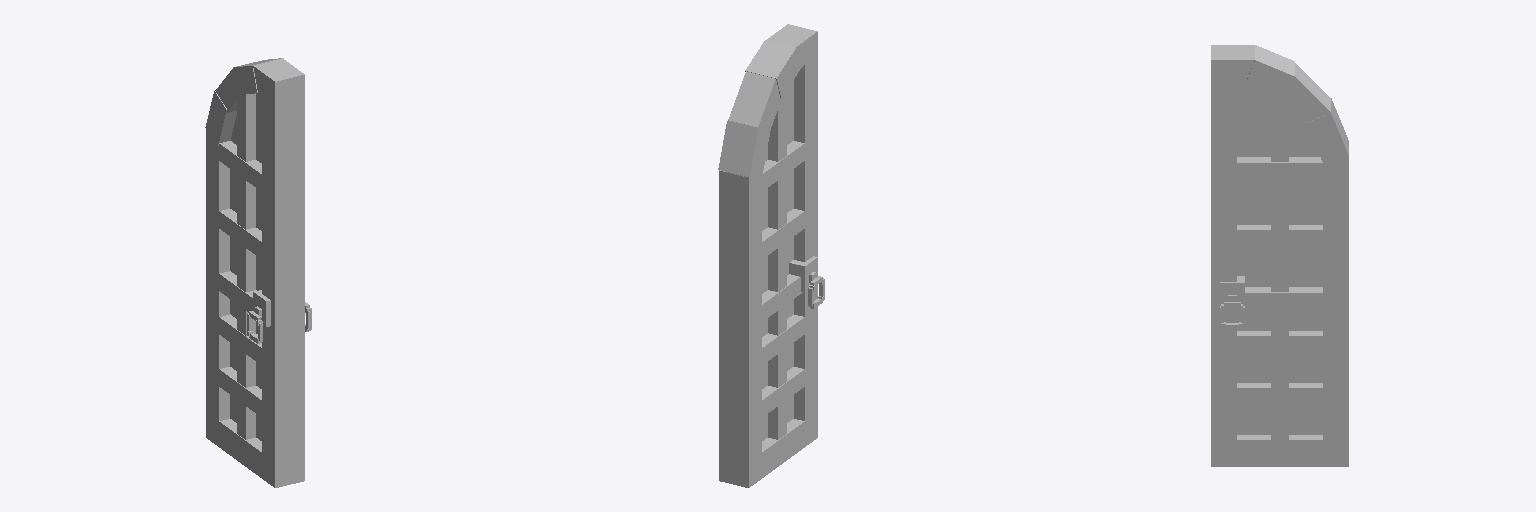
Rendered from large_gate.obj.
The picture shows the model from 3 angles: view 1: azimuth 30°, elevation 25°; view 2: azimuth 150°, elevation 25°; view 3: azimuth 270°, elevation 25°; orthographic projection.
Visible parts, largest first — view 1: Cube.001; view 2: Cube.001; view 3: Cube.001.
Boxes of the visible parts, x1=… form: Cube.001: x1=205, y1=58, x2=311, y2=487; Cube.001: x1=718, y1=24, x2=824, y2=487; Cube.001: x1=1211, y1=45, x2=1348, y2=466.
Size of the model in its own units: 0.6844 by 4.88 by 1.5.